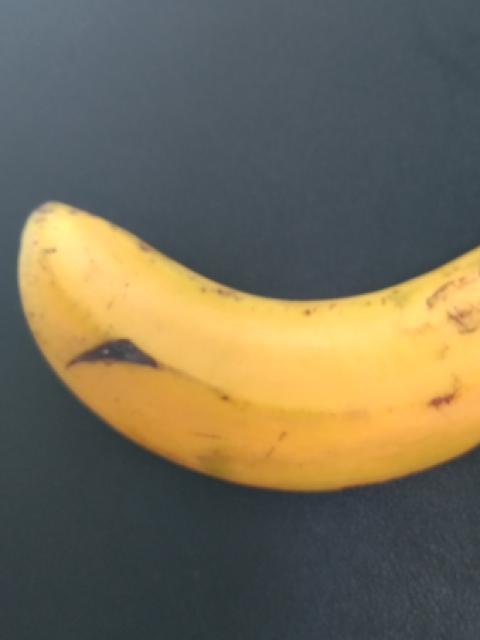ripe: (15, 178, 479, 531)
